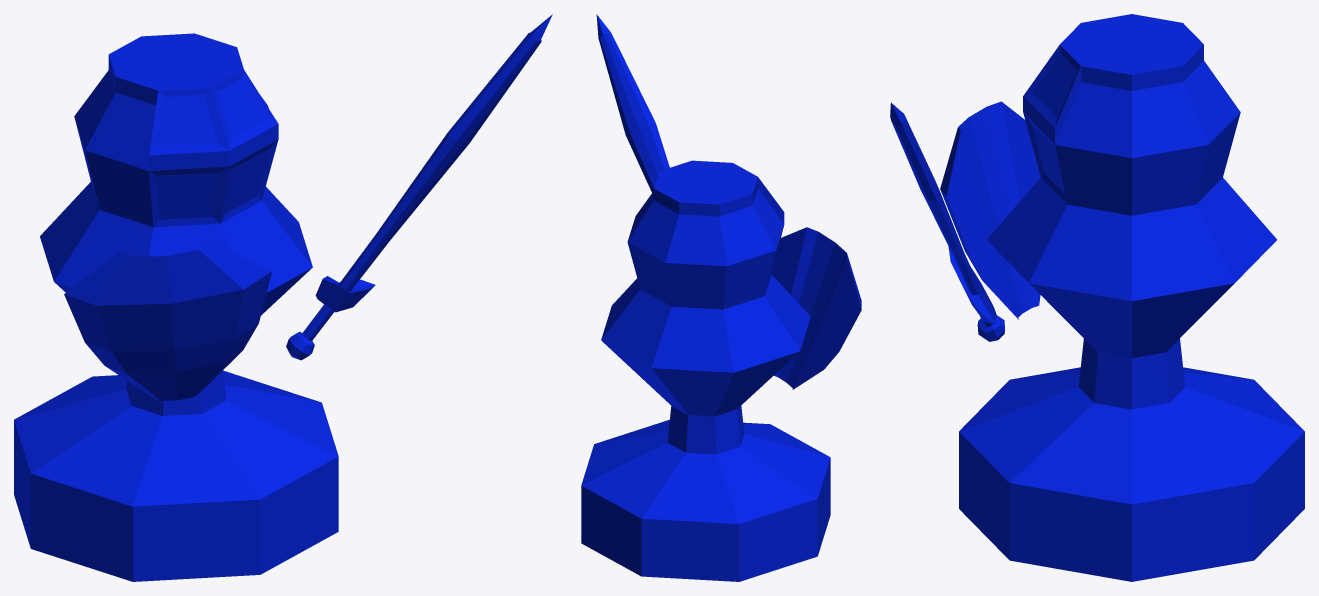
The model's file is Player Icon.fbx.
The picture shows the model from 3 angles, left to right: view 1: azimuth 30°, elevation 25°; view 2: azimuth 150°, elevation 25°; view 3: azimuth 270°, elevation 25°; orthographic projection. The views are drawn at different scales.
Visible parts, largest first — view 1: Player; view 2: Player; view 3: Player.
Boxes of the visible parts, box(x1,y1,x2,y2) form: Player: box(14, 14, 552, 581); Player: box(581, 14, 861, 581); Player: box(890, 14, 1304, 581).
Bounding box in the file's own units: 121 × 144 × 101.
